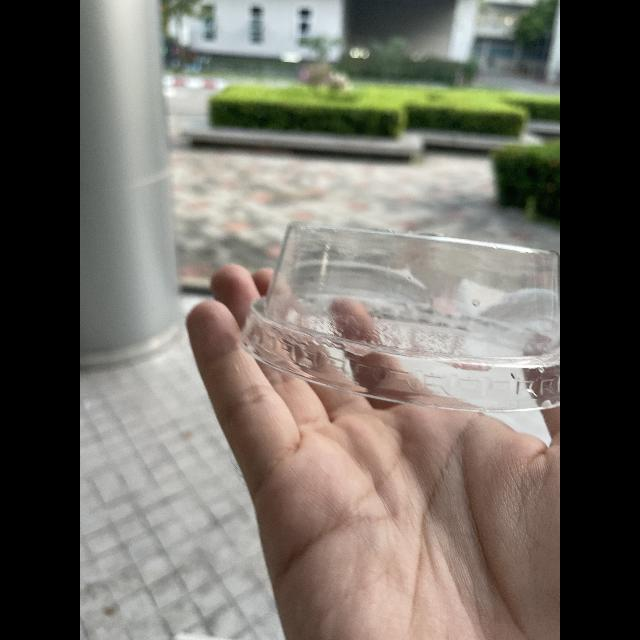plastic_cup_lid: (236, 208, 560, 416)
